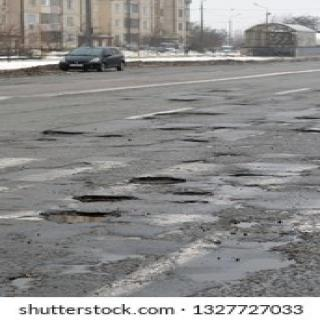pothole: (37, 208, 109, 229), (128, 172, 186, 188), (73, 192, 137, 205)
